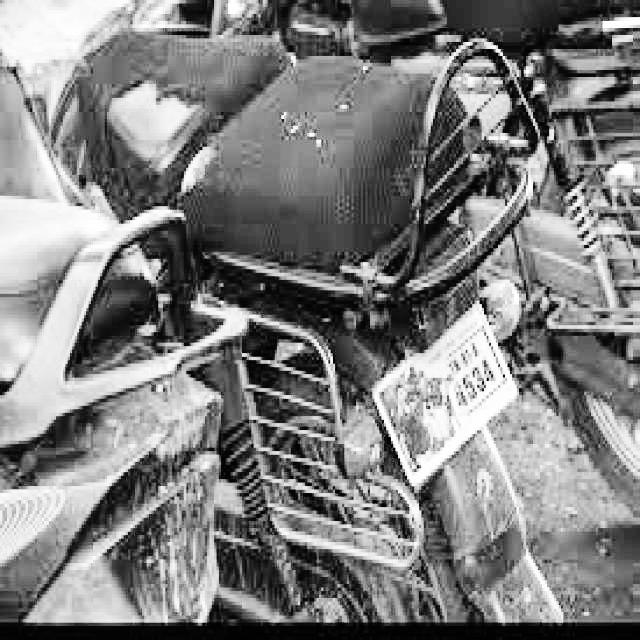Bike: (92, 28, 520, 640), (0, 188, 247, 640)
